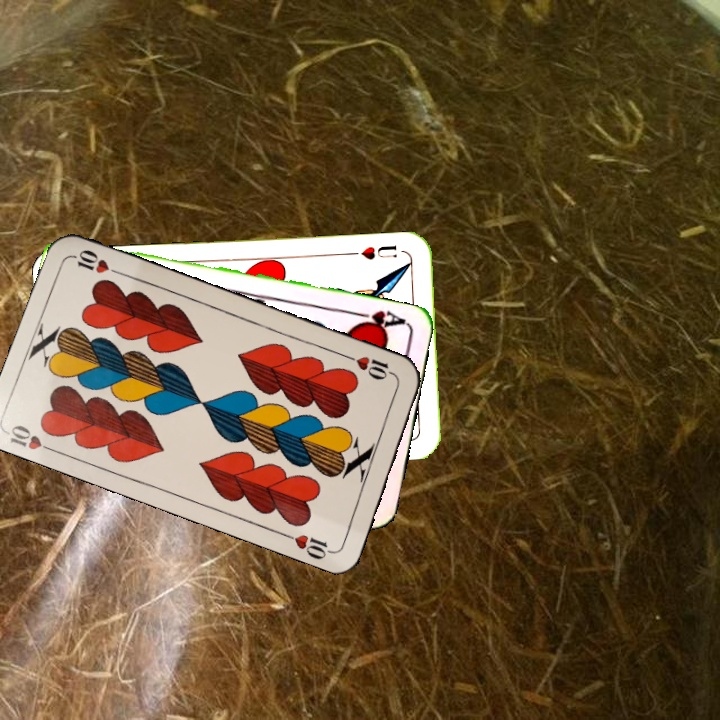H10: (3, 421, 61, 456), (342, 351, 399, 383)
HA: (349, 306, 410, 334)
HU: (347, 241, 400, 262)
